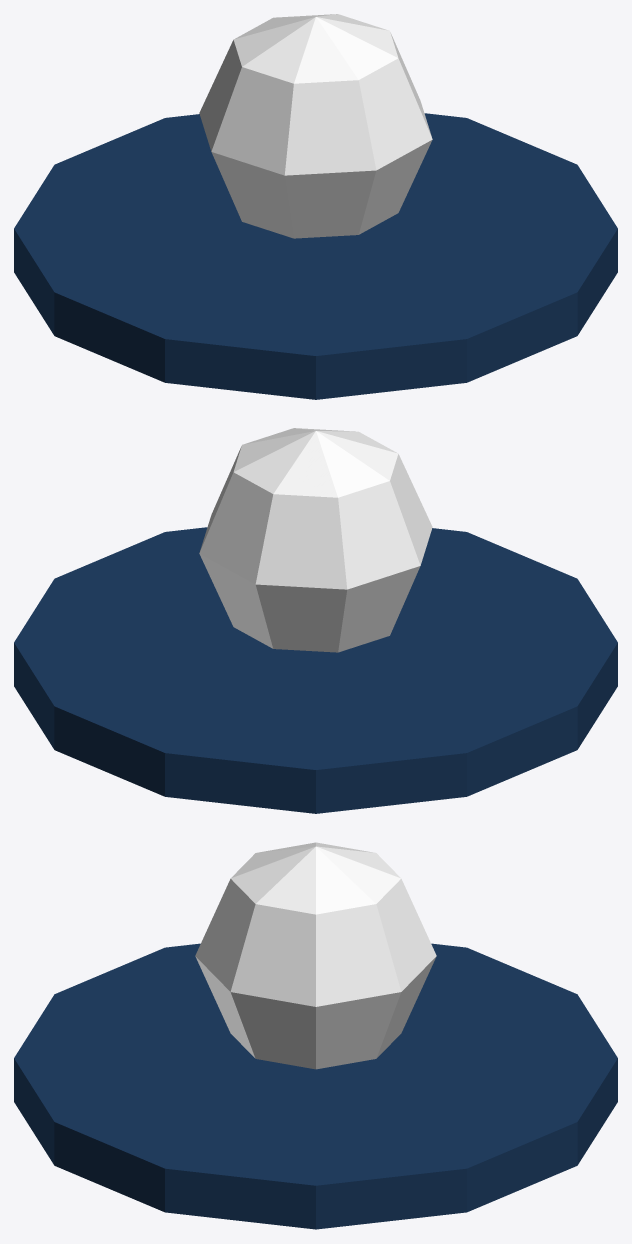
Rendered from Marker_Salt_v001.fbx.
3 views of the same model, one above another, from view 1: azimuth 30°, elevation 25°; view 2: azimuth 150°, elevation 25°; view 3: azimuth 270°, elevation 25° (orthographic).
Visible parts, largest first — view 1: Marker, SaltCrystal; view 2: Marker, SaltCrystal; view 3: Marker, SaltCrystal.
Boxes of the visible parts, box(x1,y1,x2,y2) form: Marker: box(14, 113, 617, 399); SaltCrystal: box(199, 14, 432, 238); Marker: box(14, 527, 617, 813); SaltCrystal: box(199, 428, 432, 652); Marker: box(14, 943, 617, 1229); SaltCrystal: box(195, 842, 436, 1069).
Size of the model in its own units: 30 by 14 by 30.
